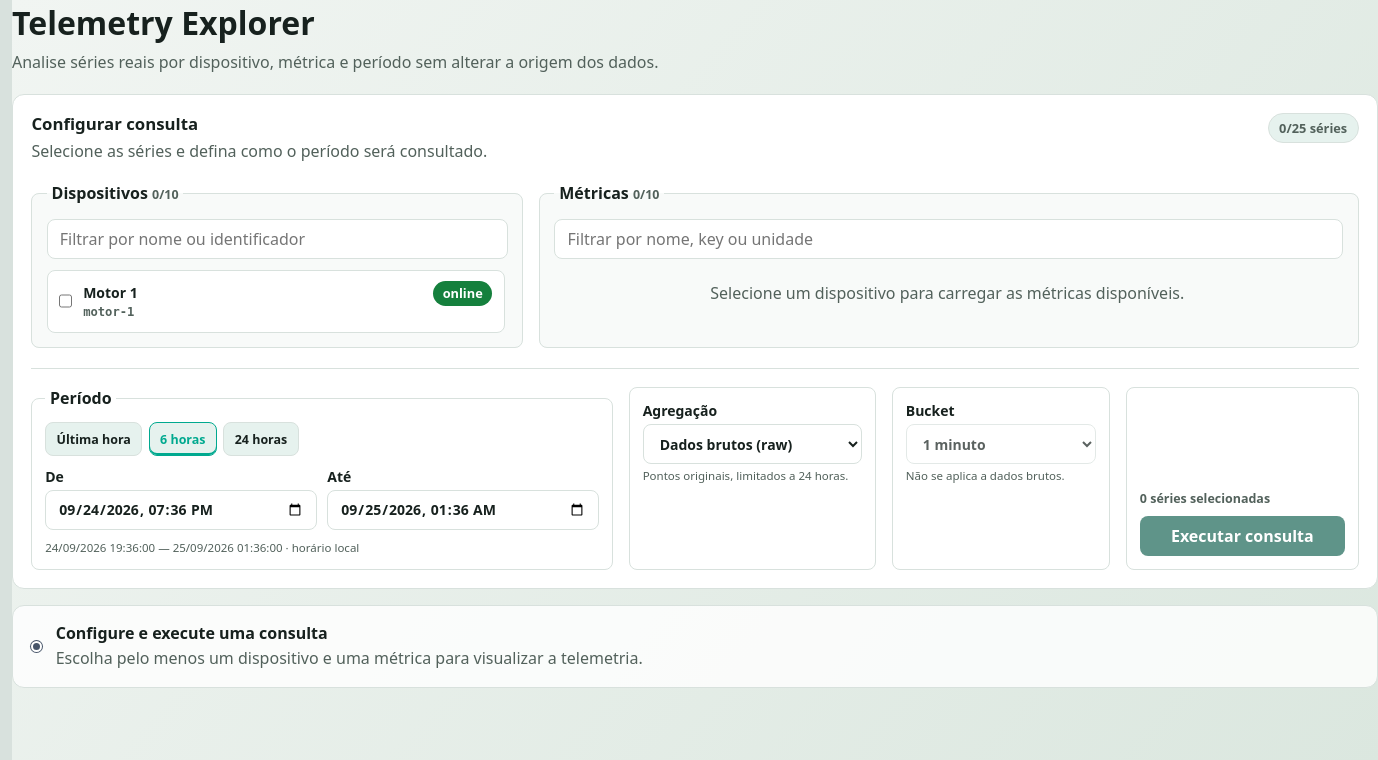
Test: TelemetryExplorerPage › separa unidades diferentes em painéis
Click the checkbox named "Selecionar dispositivo Motor 1" at (66, 301), box [59,281,72,321]
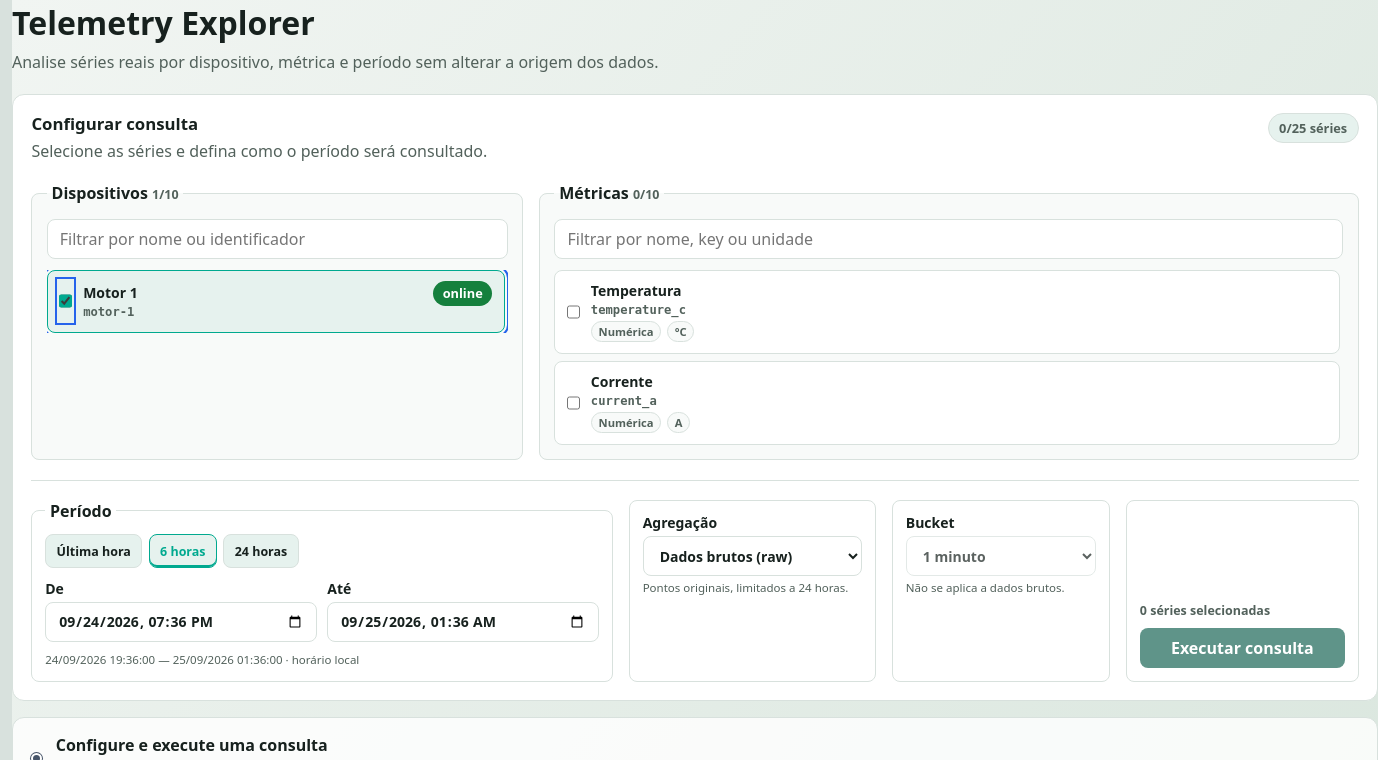
Click the checkbox named "Selecionar métrica Temperatura" at (573, 312), box [567,292,580,332]
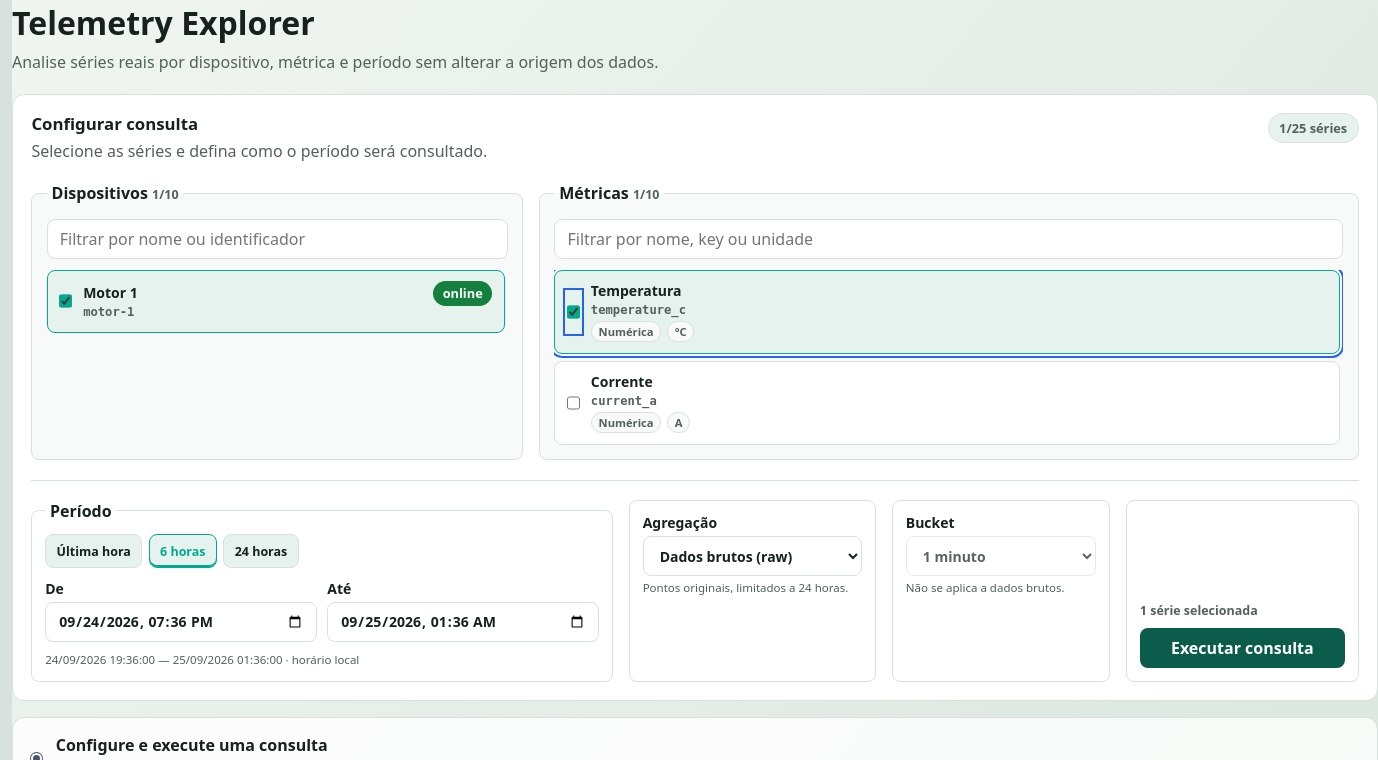
Click the checkbox named "Selecionar métrica Corrente" at (573, 403), box [567,383,580,423]
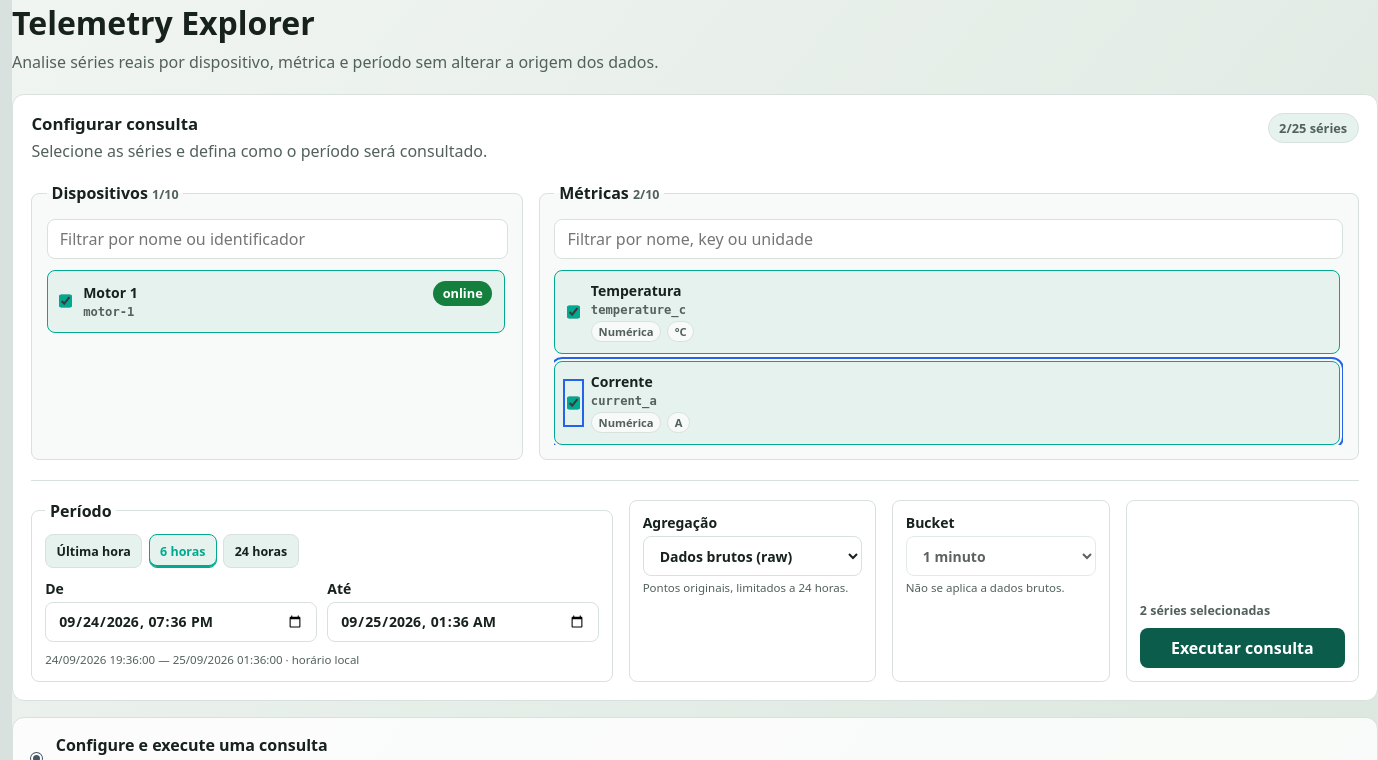
Click the button "Executar consulta" at (1242, 648), box [1140,628,1345,668]
(page scrolled)
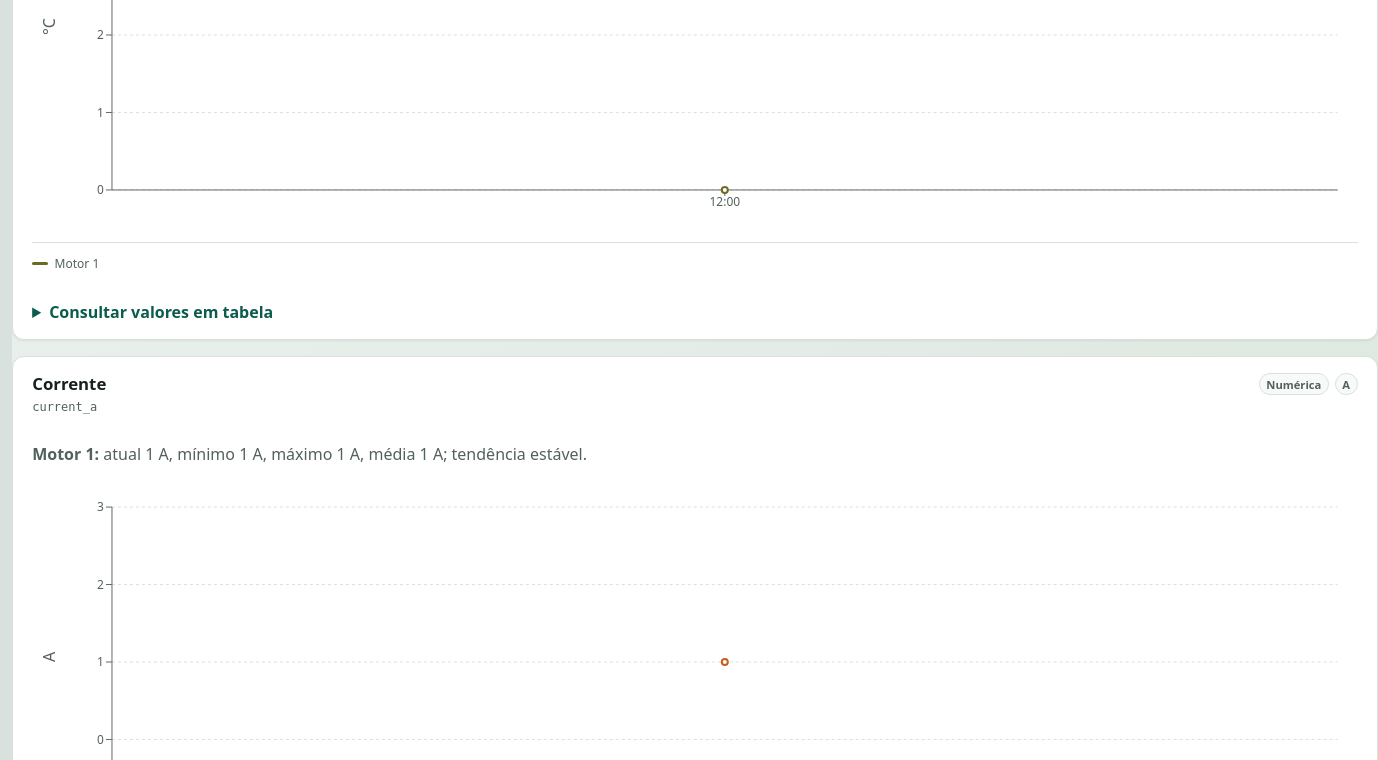
Check: the heading "Corrente" is shown, box [32,373,106,396]
